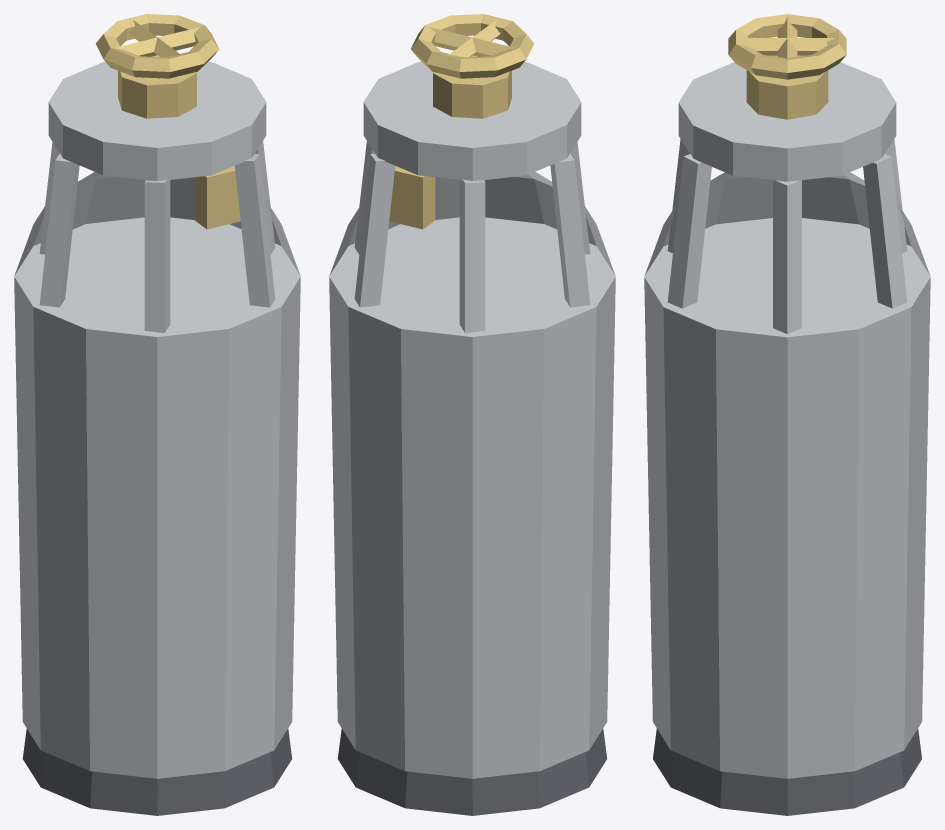
File: hot-air-balloon-festival-propane-cylinder-upright-bcf13176__38477.glb
3 views of the same model, side by side, from view 1: azimuth 30°, elevation 25°; view 2: azimuth 150°, elevation 25°; view 3: azimuth 270°, elevation 25° (orthographic).
Visible parts, largest first — view 1: propane-cylinder-upright-steel, propane-cylinder-upright-charcoal, valve-1, propane-cylinder-upright-brass; view 2: propane-cylinder-upright-steel, propane-cylinder-upright-charcoal, valve-1, propane-cylinder-upright-brass; view 3: propane-cylinder-upright-steel, propane-cylinder-upright-charcoal, valve-1.
Boxes of the visible parts, <box> form: propane-cylinder-upright-steel: <box>14,61,300,778</box>; propane-cylinder-upright-charcoal: <box>22,728,292,815</box>; valve-1: <box>95,14,218,118</box>; propane-cylinder-upright-brass: <box>194,166,240,229</box>; propane-cylinder-upright-steel: <box>329,61,615,778</box>; propane-cylinder-upright-charcoal: <box>337,728,607,815</box>; valve-1: <box>411,14,534,118</box>; propane-cylinder-upright-brass: <box>389,166,435,229</box>; propane-cylinder-upright-steel: <box>644,62,930,778</box>; propane-cylinder-upright-charcoal: <box>653,728,921,815</box>; valve-1: <box>728,14,846,119</box>.
Bounding box in the file's own units: 0.35 × 0.9733 × 0.35.
